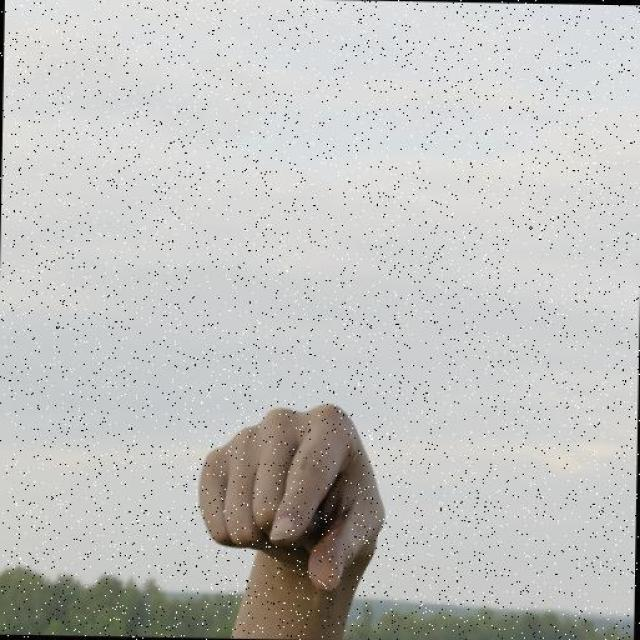Q: (194, 399, 392, 597)
